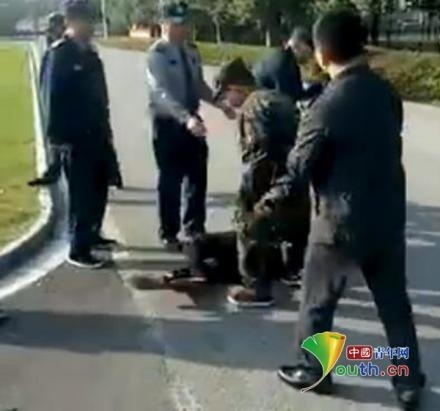falling: (134, 199, 305, 306)
